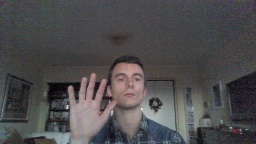Mano_aperta: (65, 71, 118, 138)
